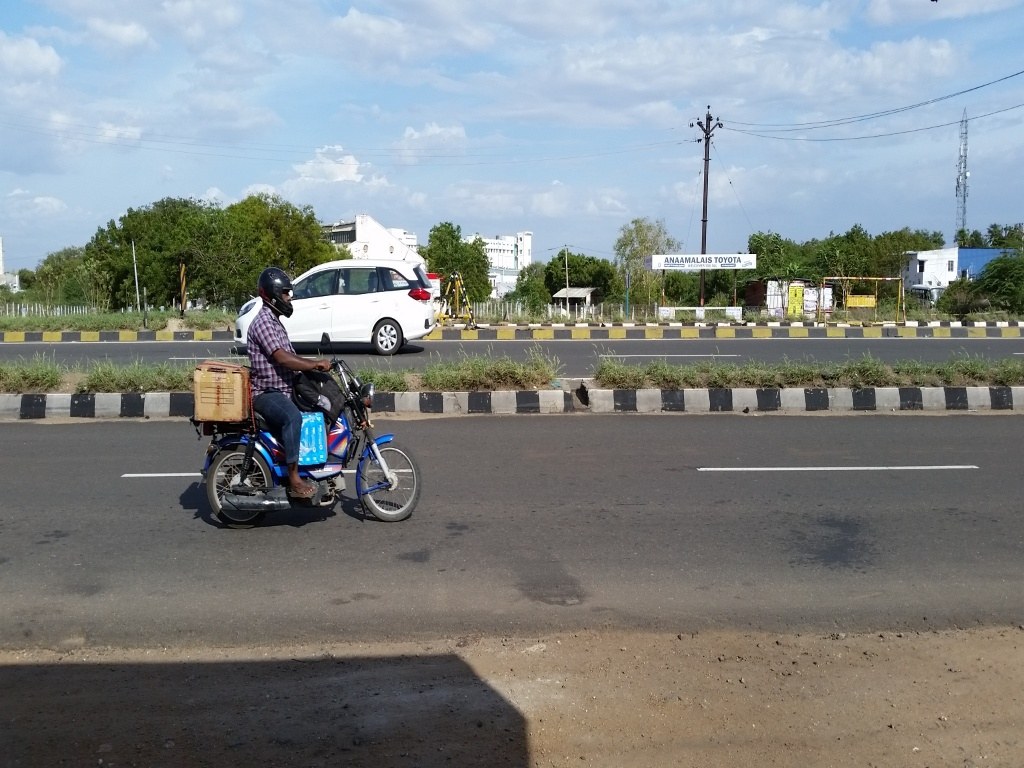biker: (160, 233, 443, 546)
helmet: (253, 257, 305, 330)
